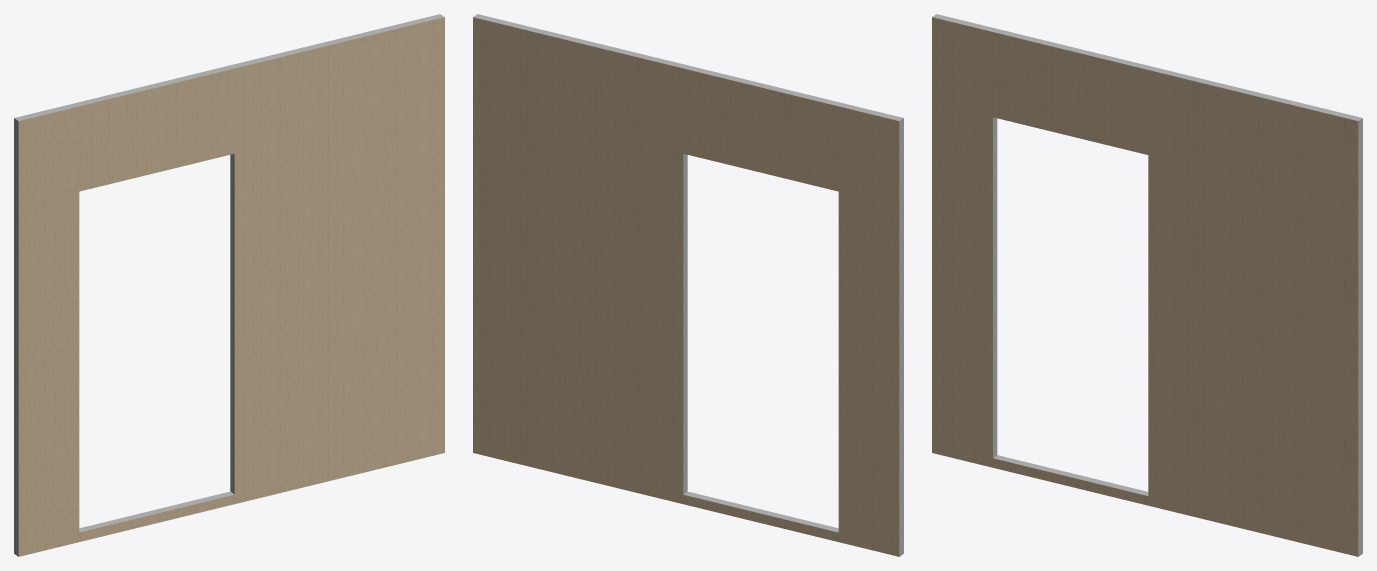
3 renders of one model, left to right at view 1: azimuth 30°, elevation 25°; view 2: azimuth 150°, elevation 25°; view 3: azimuth 330°, elevation 25°, orthographic.
Bounding box in the file's own units: 2.8 × 2.73 × 0.05.
Materials: 2 (1 with a texture image).
